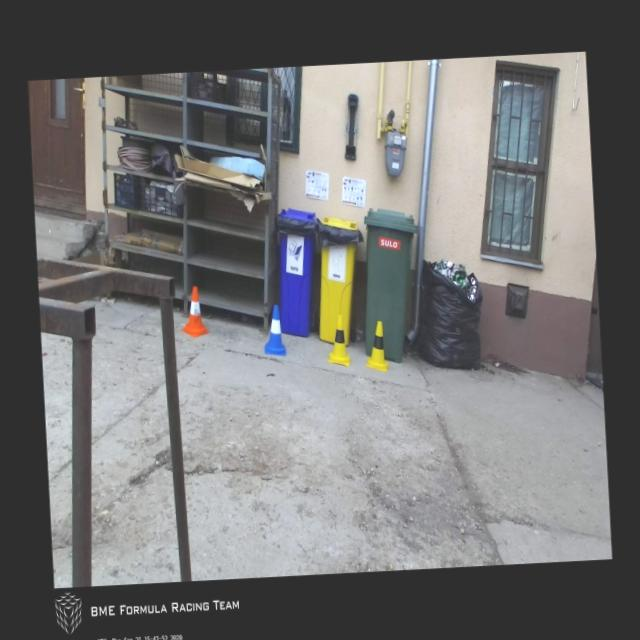blue_cone: (262, 304, 286, 357)
orange_cone: (180, 286, 210, 338)
yellow_cone: (326, 314, 351, 368), (364, 320, 388, 372)
